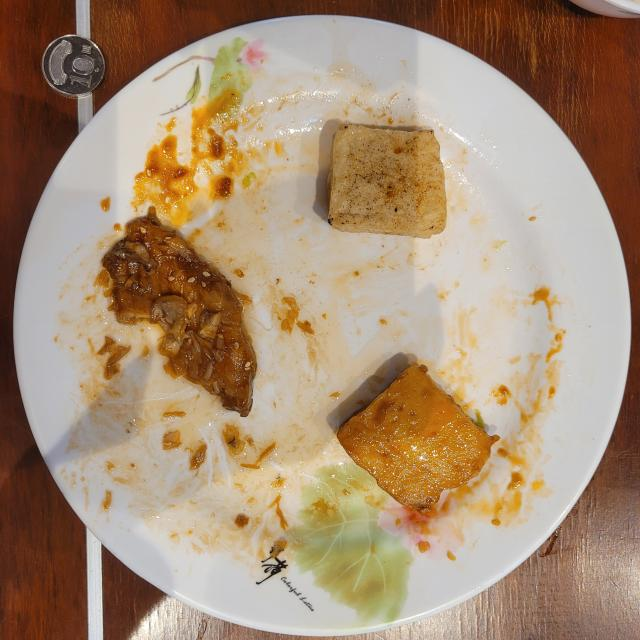Kabayaki sea bream fillet: (102, 210, 256, 416)
coin: (41, 35, 105, 98)
creamy tofu: (338, 364, 499, 512)
creamy tofu -without sauce-: (329, 124, 446, 238)
